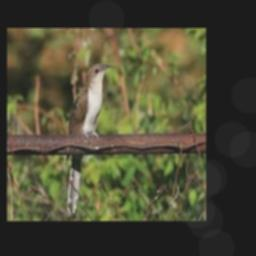Cuckoo: (67, 63, 111, 215)
